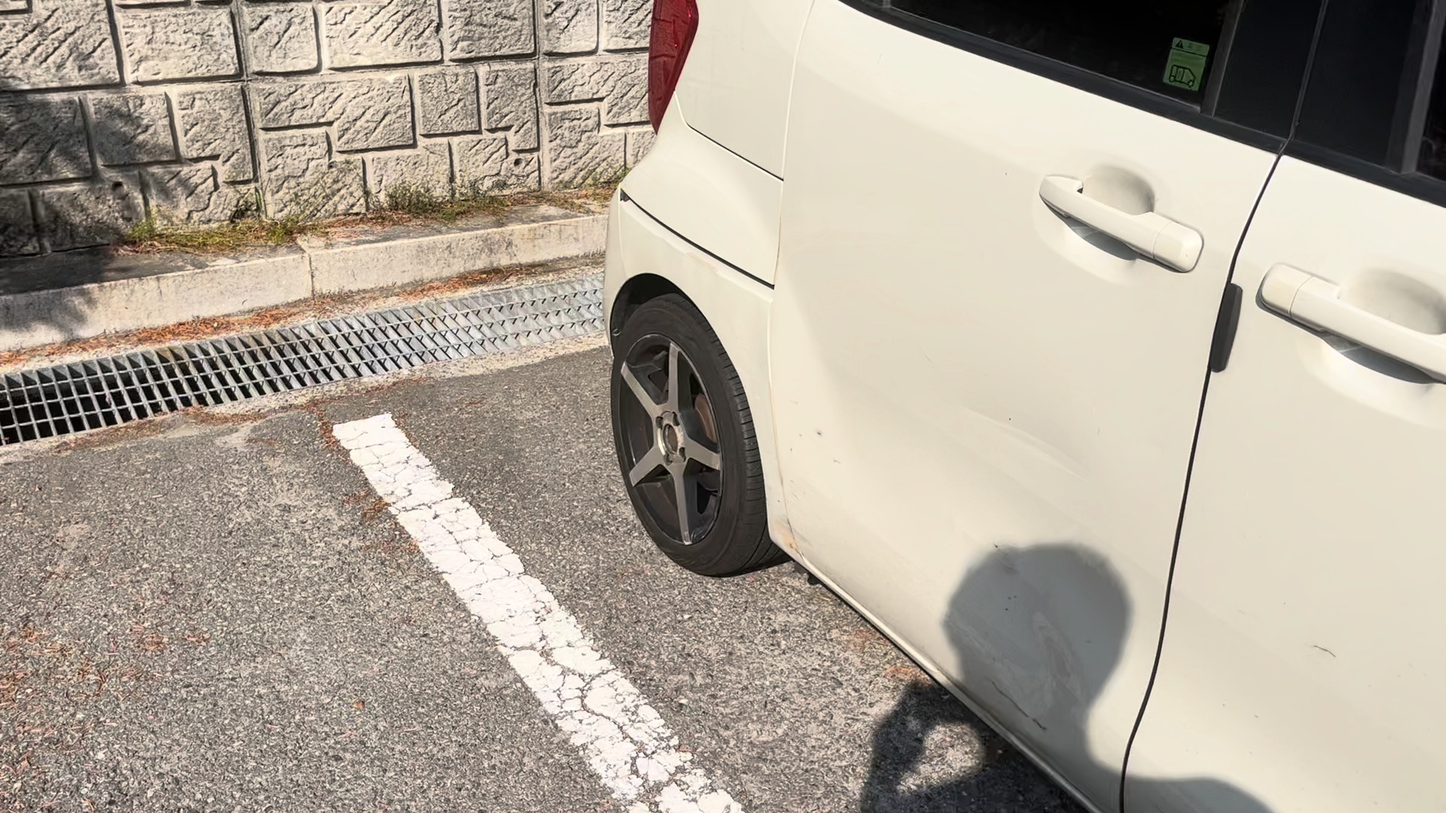door_handle: (1259, 264, 1444, 378), (1039, 178, 1205, 266)
